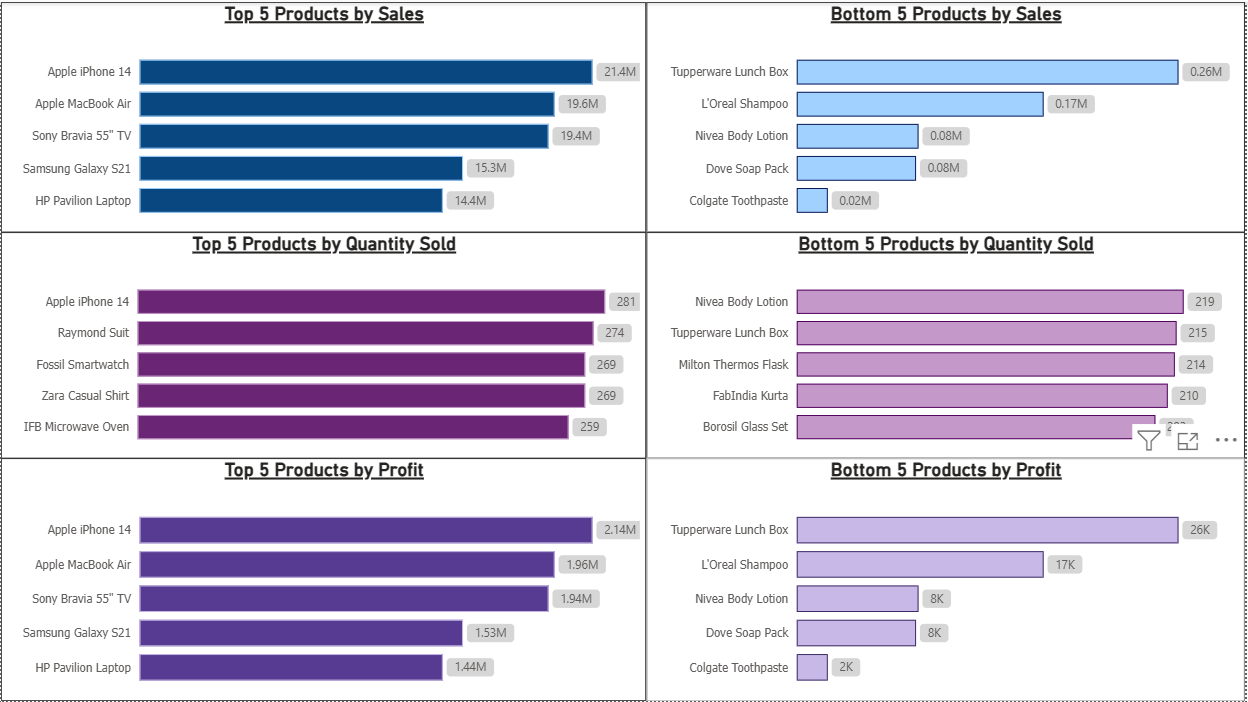

Layout of this report page (visuals, bound fields, positions):
{"tool":"powerbi","page":{"name":"Top/Bottom 5 Analysis","canvas":[1280,720],"ordinal":1},"visuals":[{"type":"barChart","title":"Top 5 Products by Sales","fields":{"Category":["Dim Product.Product Name"],"Y":["Sum(Fact Table.Net Sales)"]},"box":[0,0,664.3,237.1],"z":0},{"type":"barChart","title":"Bottom 5 Products by Sales","fields":{"Category":["Dim Product.Product Name"],"Y":["Sum(Fact Table.Net Sales)"]},"box":[664.3,0,615.7,237.1],"z":1000},{"type":"barChart","title":"Top 5 Products by Quantity Sold","fields":{"Category":["Dim Product.Product Name"],"Y":["Sum(Fact Table.Units Sold)"]},"box":[0,237.1,664.3,232.9],"z":2000},{"type":"barChart","title":"Bottom 5 Products by Quantity Sold","fields":{"Category":["Dim Product.Product Name"],"Y":["Sum(Fact Table.Units Sold)"]},"box":[664.3,237.1,615.7,232.9],"z":3000},{"type":"barChart","title":"Top 5 Products by Profit","fields":{"Category":["Dim Product.Product Name"],"Y":["Sum(Fact Table.Profit)"]},"box":[0,470,664.3,250],"z":4000},{"type":"barChart","title":"Bottom 5 Products by Profit","fields":{"Category":["Dim Product.Product Name"],"Y":["Sum(Fact Table.Profit)"]},"box":[664.3,470,615.7,250],"z":5000}]}

Visuals, with their boxes in screenshot pixels (x1, y1, x2, y2), scaled from the page's 1280x720 canvas onto the 1248x702 screenshot:
"Top 5 Products by Sales" barChart: x1=0, y1=0, x2=648, y2=231
"Bottom 5 Products by Sales" barChart: x1=648, y1=0, x2=1247, y2=231
"Top 5 Products by Quantity Sold" barChart: x1=0, y1=231, x2=648, y2=458
"Bottom 5 Products by Quantity Sold" barChart: x1=648, y1=231, x2=1247, y2=458
"Top 5 Products by Profit" barChart: x1=0, y1=458, x2=648, y2=701
"Bottom 5 Products by Profit" barChart: x1=648, y1=458, x2=1247, y2=701
